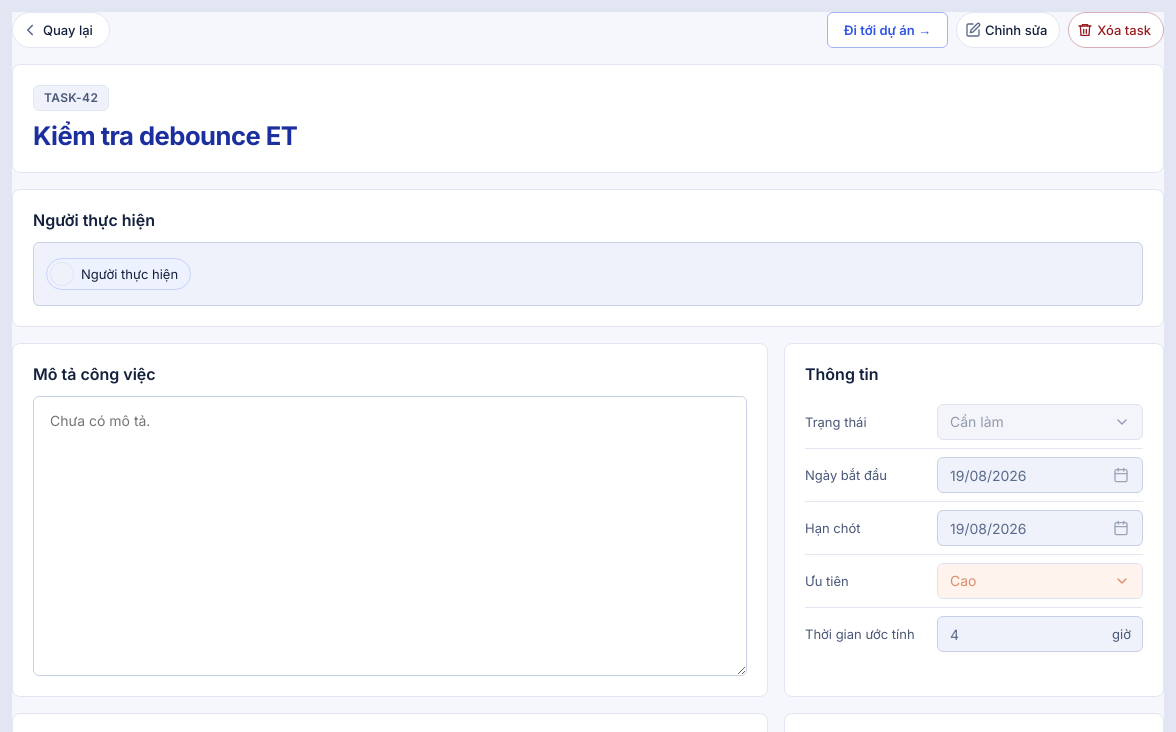
Test case: TaskDetailView edit mode › keeps fields locked until edit mode is entered
The width and height of the screenshot is (1176, 732).
Check: the number field labelled "Thời gian ước tính" holds "4", box 937,616 -> 1143,652
Check: the number field labelled "Thời gian ước tính" is disabled, box 937,616 -> 1143,652
Click the button "Chỉnh sửa": (1008, 30) 956,12 -> 1060,48
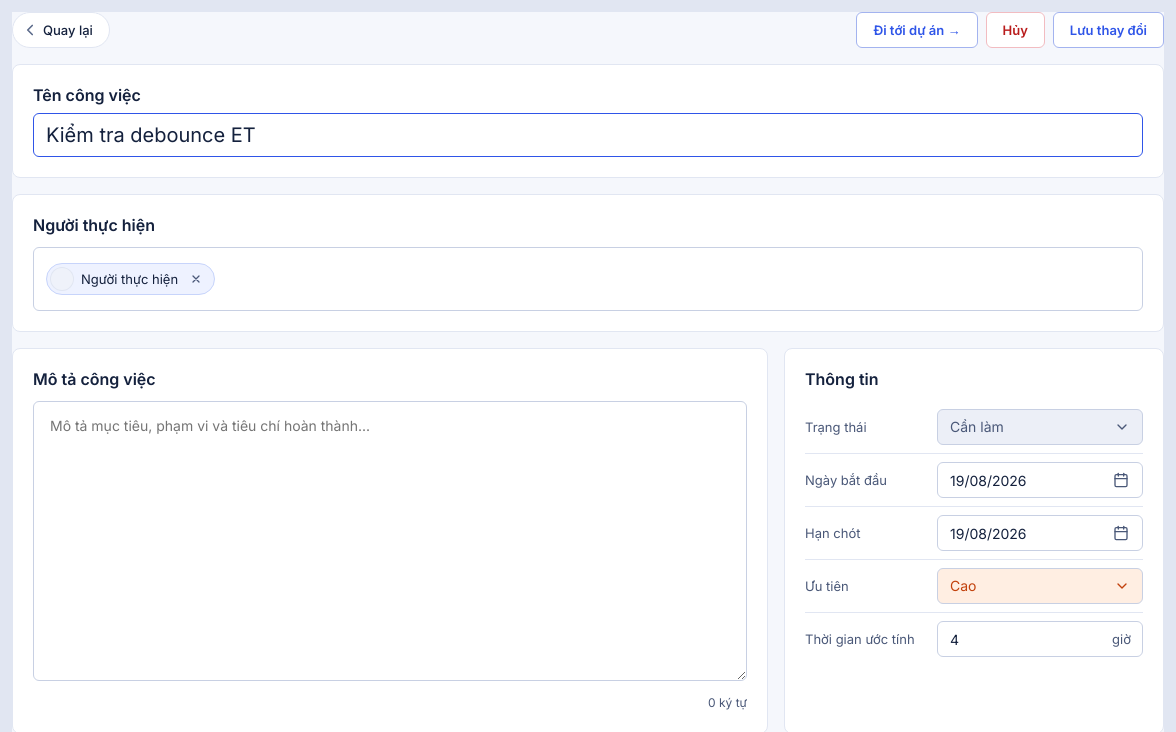
Check: the number field labelled "Thời gian ước tính" is enabled, box 937,621 -> 1143,657
